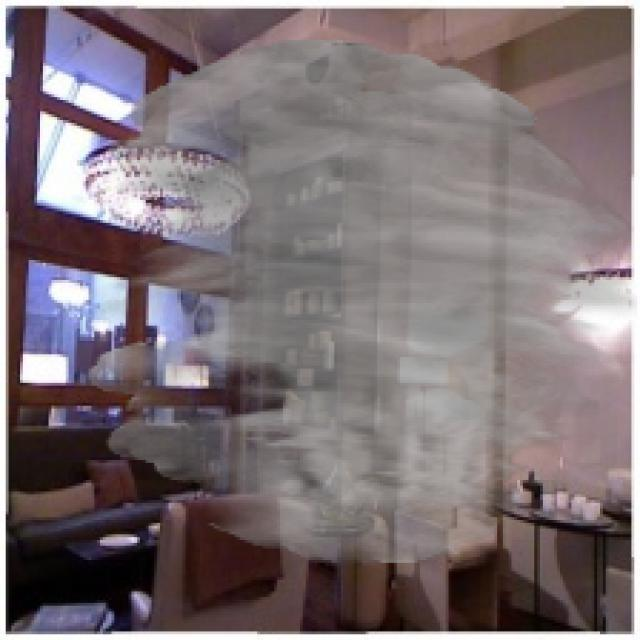Smoke: (85, 40, 638, 566)
